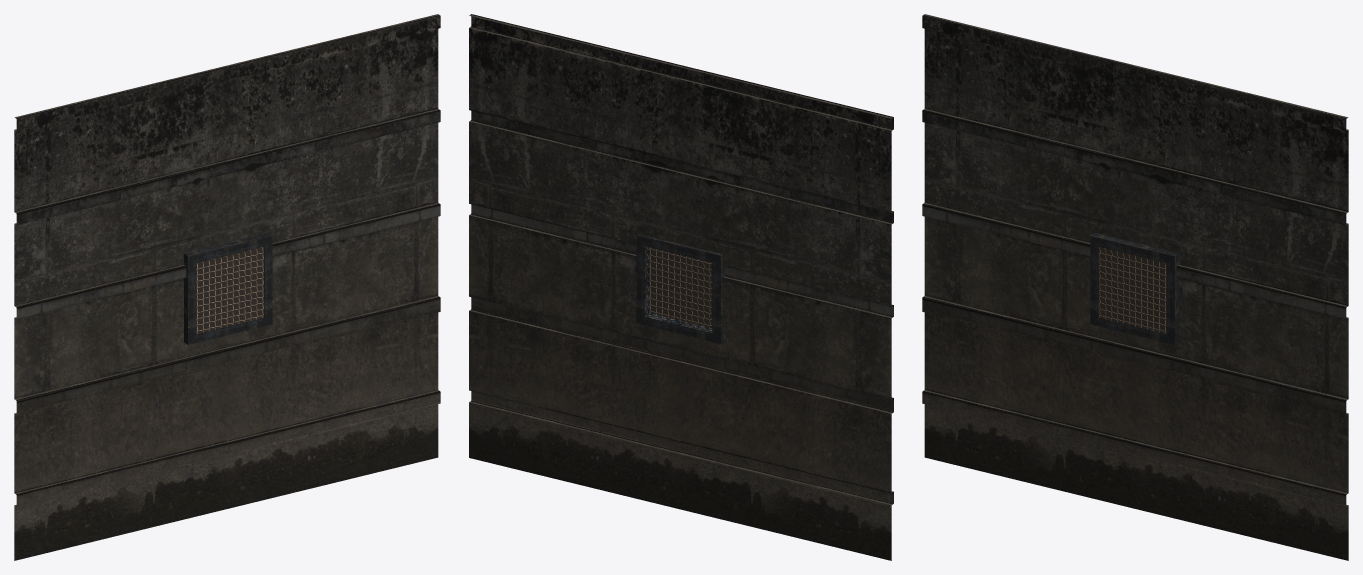
File: tunnel_wall_vent.DAE
3 views of the same model, side by side, from view 1: azimuth 30°, elevation 25°; view 2: azimuth 150°, elevation 25°; view 3: azimuth 330°, elevation 25° (orthographic).
Parts seen in each view (by area): view 1: tunnels_wall_vent, vent_grating, vent_frame; view 2: tunnels_wall_vent, vent_grating, vent_frame; view 3: tunnels_wall_vent, vent_grating, vent_frame.
Boxes of the visible parts, x1,y1,x2,y2 form: tunnels_wall_vent: [14, 14, 440, 560]; vent_grating: [196, 247, 263, 333]; vent_frame: [184, 233, 272, 344]; tunnels_wall_vent: [469, 14, 893, 560]; vent_grating: [649, 247, 712, 328]; vent_frame: [636, 234, 724, 343]; tunnels_wall_vent: [922, 14, 1348, 560]; vent_grating: [1099, 247, 1166, 333]; vent_frame: [1090, 233, 1178, 344].
Bounding box in the file's own units: 4 × 0.0953 × 4.
